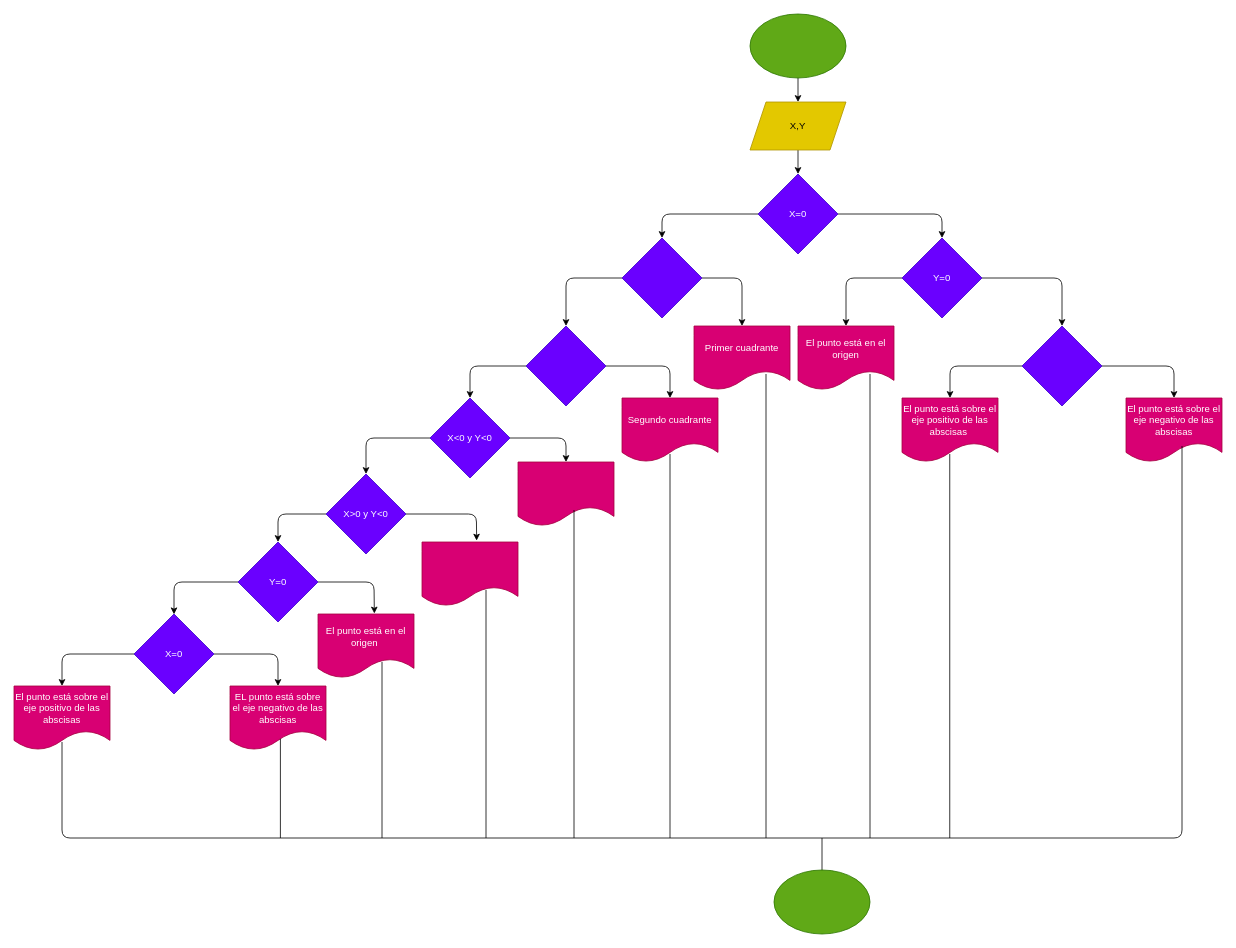
Some shapes in this 1236 by 948 pixel diagram are drawn without their labels. Here are the shapes that lost their labels. From the top down, the centre of each, then its label:
At pixel 797 45: "INICIO".
At pixel 661 277: "X>0 y Y>0".
At pixel 565 365: "X<0 y Y>0".
At pixel 1061 365: "Y>0".
At pixel 565 493: "Tercer cuadrante".
At pixel 469 573: "Cuarto cudrante".
At pixel 821 901: "FIN".
